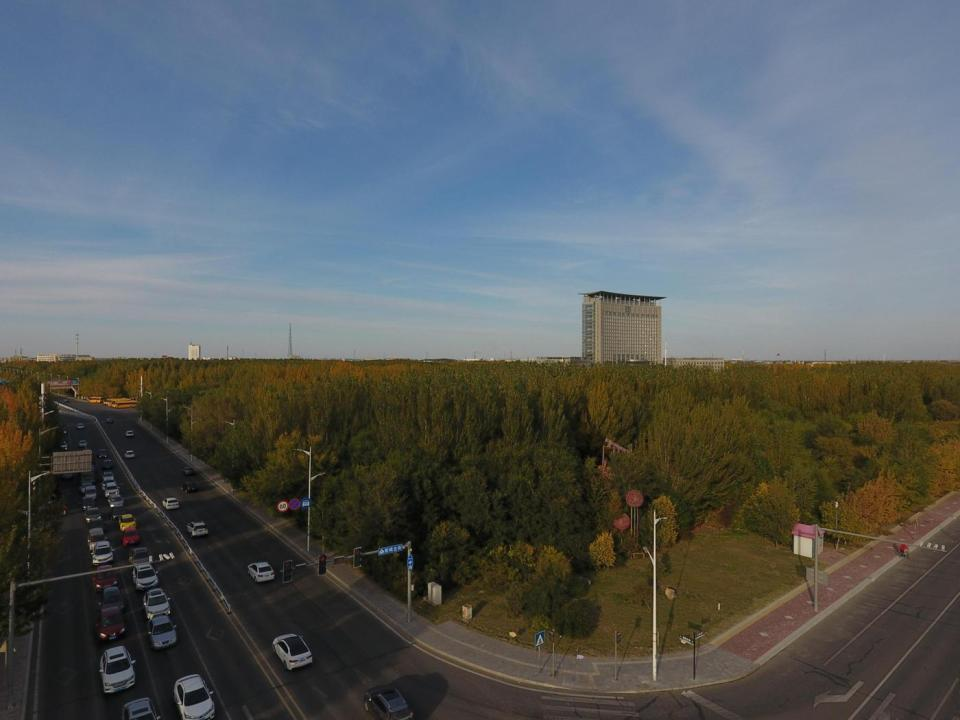bus: (79, 449, 96, 482), (88, 396, 103, 403)
car: (173, 673, 215, 720), (362, 683, 412, 720), (99, 645, 136, 693), (272, 632, 314, 671), (145, 616, 179, 650), (96, 605, 126, 640), (142, 588, 172, 619), (120, 697, 160, 720), (132, 563, 159, 592), (98, 586, 126, 613), (247, 559, 276, 584), (92, 564, 118, 591), (90, 540, 114, 567), (128, 547, 152, 568), (185, 520, 210, 537), (118, 513, 138, 531), (120, 528, 140, 546), (89, 517, 106, 536), (108, 504, 127, 520), (78, 496, 97, 511), (104, 481, 120, 498), (84, 507, 100, 523), (162, 496, 180, 510), (107, 494, 125, 508), (100, 478, 119, 491), (60, 462, 74, 479), (181, 480, 198, 493), (101, 457, 114, 469), (80, 481, 92, 494), (102, 470, 115, 480), (123, 449, 135, 459), (60, 422, 68, 437), (182, 466, 194, 475), (78, 439, 89, 448), (97, 449, 108, 458), (75, 422, 85, 430), (124, 430, 135, 437), (60, 441, 67, 452), (106, 418, 114, 424), (62, 398, 69, 404)
van: (87, 527, 107, 549), (84, 485, 98, 500)
